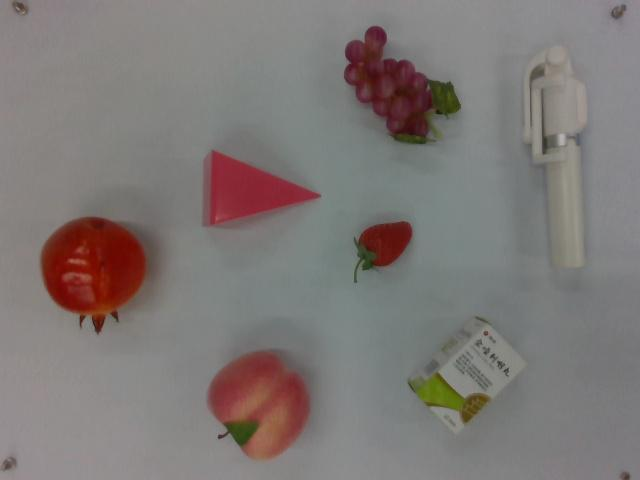carton: (400, 310, 535, 436)
grape: (338, 21, 466, 153)
peach: (202, 345, 313, 465)
pomegranate: (38, 213, 150, 337)
pyramid: (202, 148, 323, 230)
selfiestick: (517, 42, 593, 274)
strawberry: (351, 215, 416, 286)
